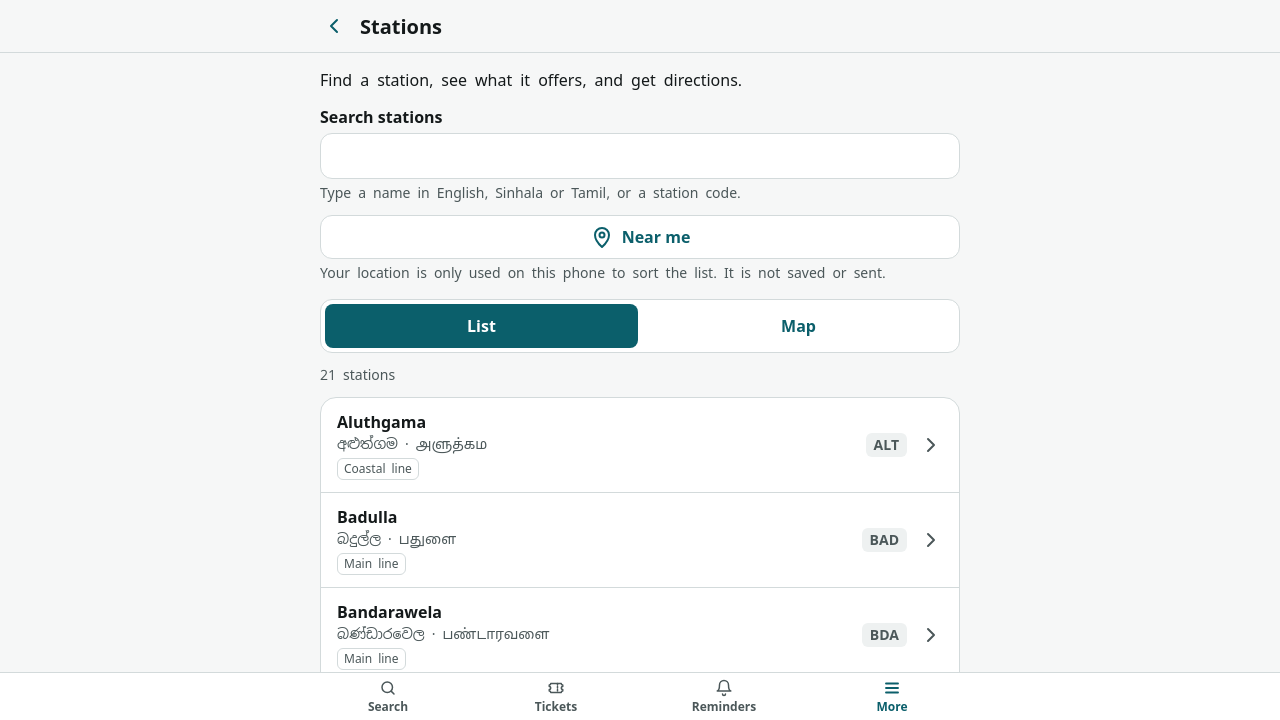
it: Near me › refused: explains in plain words and the list still works
The width and height of the screenshot is (1280, 720).
Click the button "Near me". click: [640, 237]
box: [320, 215, 960, 259]
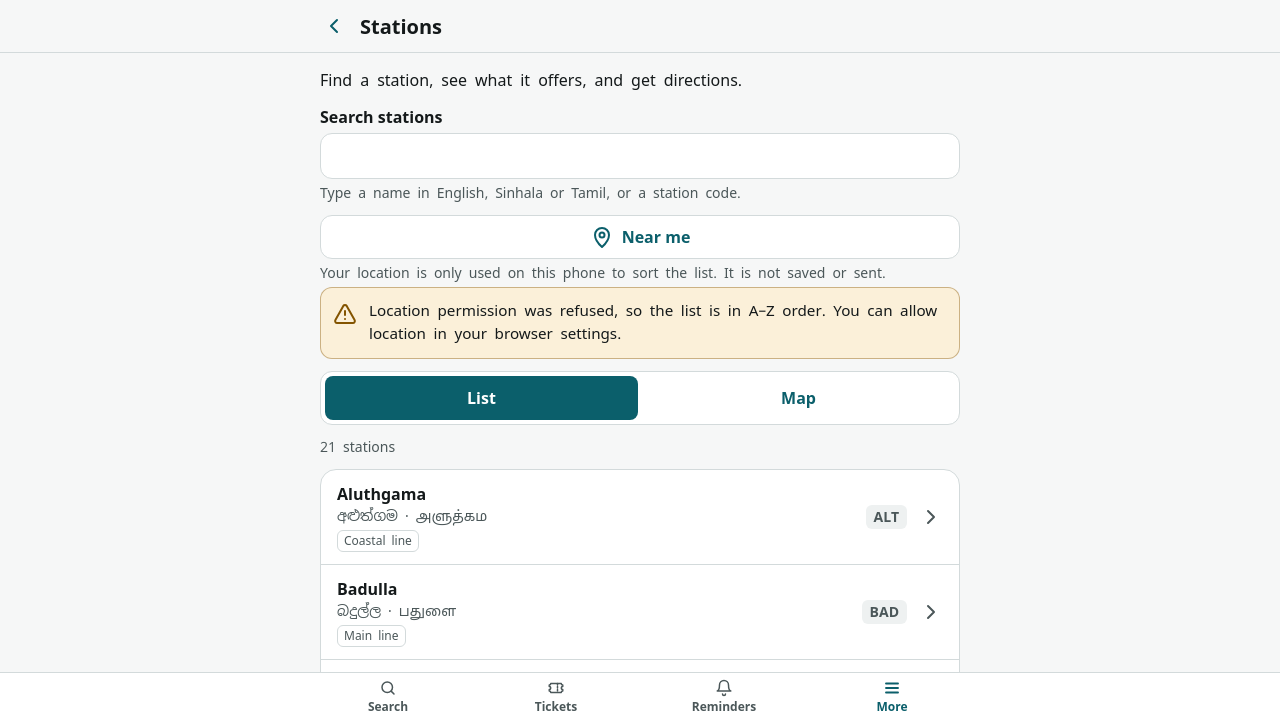
Now the text "Location permission was refused, so the list is in A–Z order" is shown, box [369, 301, 937, 343]
